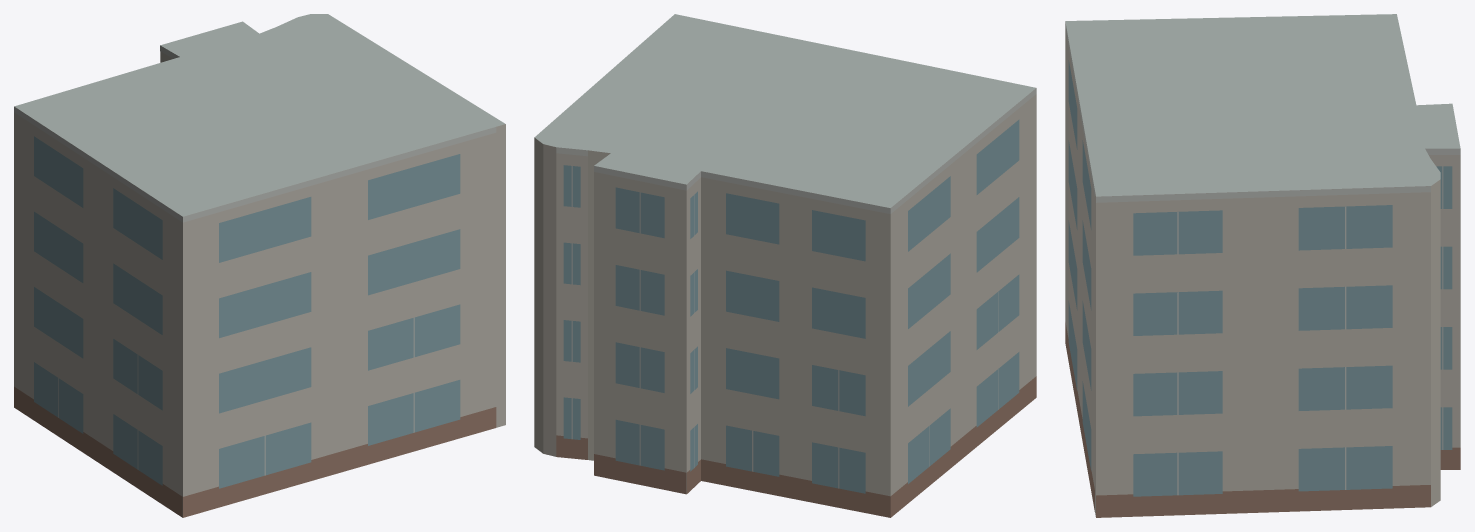
File: survey-upis-32914278.glb
3 renders of one model, left to right at view 1: azimuth 30°, elevation 25°; view 2: azimuth 150°, elevation 25°; view 3: azimuth 270°, elevation 25°, orthographic. The views are drawn at different scales.
Visible parts, largest first — view 1: survey-upis-32914278.tmp; view 2: survey-upis-32914278.tmp; view 3: survey-upis-32914278.tmp.
Boxes of the visible parts, box(x1,y1,x2,y2) form: survey-upis-32914278.tmp: box(14, 14, 505, 517); survey-upis-32914278.tmp: box(534, 14, 1036, 517); survey-upis-32914278.tmp: box(1065, 14, 1460, 517).
Bounding box in the file's own units: 15.37 × 12.6 × 14.06.
